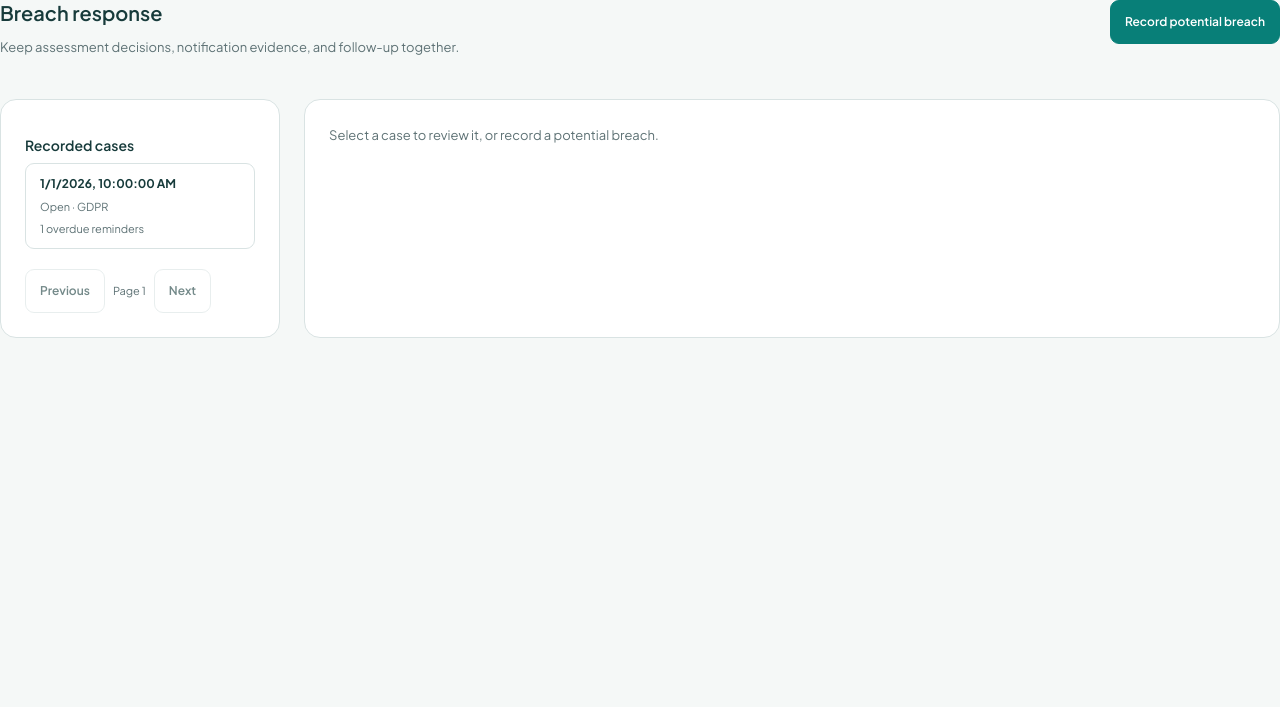
Test: a required notification remains visible and blocked resolution errors are recoverable
Click the button "1/1/2026, 10:00:00 AM Open · GDPR 1 overdue reminders": (140, 206) [25,163,255,249]
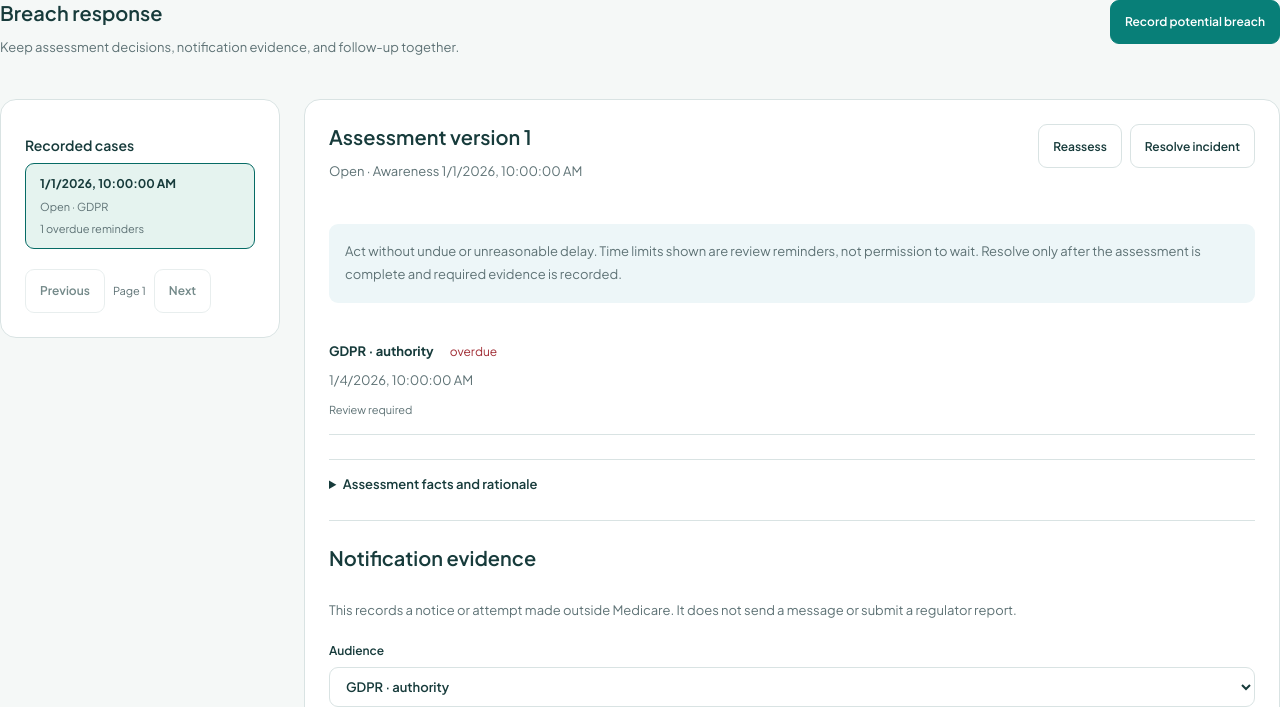
Now the text "overdue" is shown, box [450,344,497,359]
Now the text "does not send a message or submit a regulator report" is shown, box [329,602,1017,618]
Click the button "Resolve incident": (1192, 146) [1130,124,1255,168]
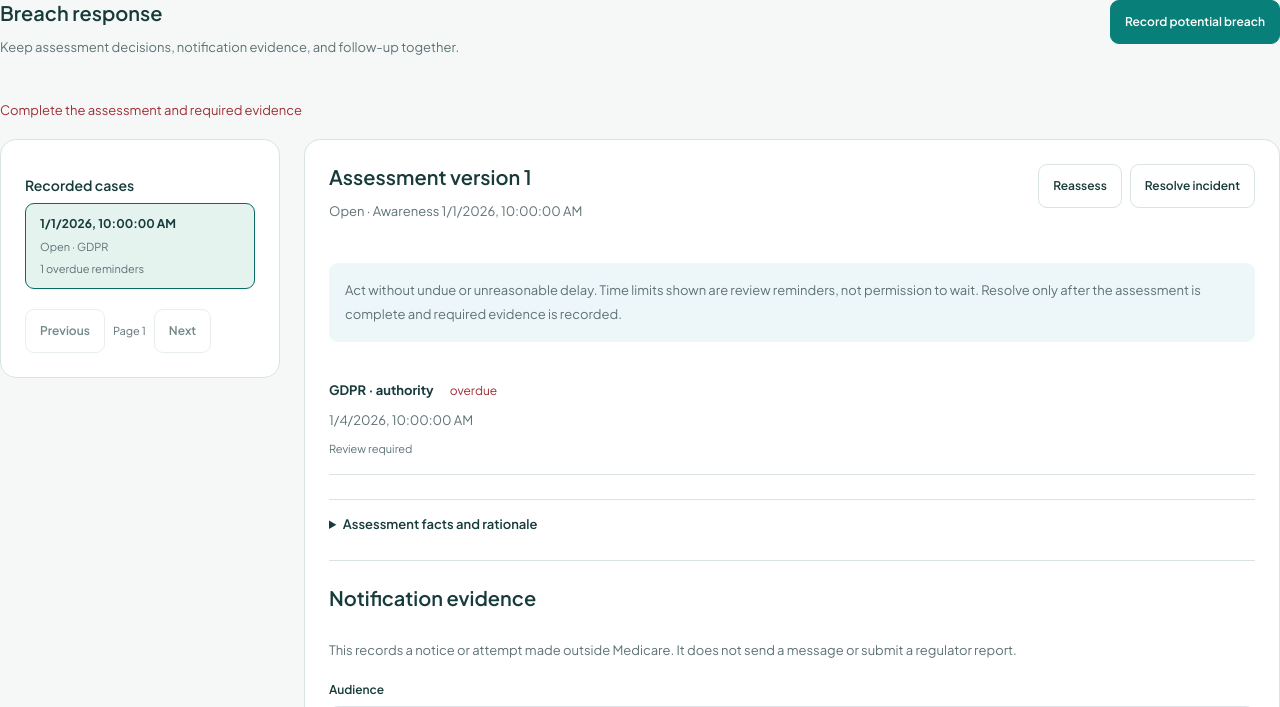
Now the message reads "Complete the assessment and required evidence", box [0,102,302,118]
